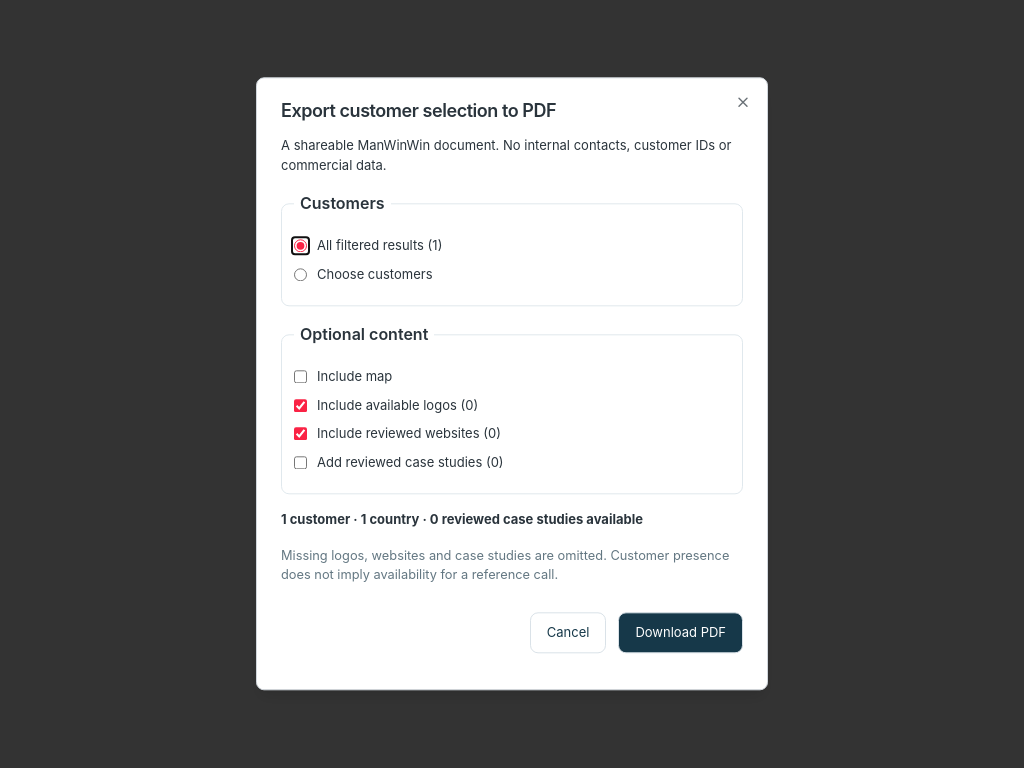
Test: Customer PDF download loading › offers an explicit reload for a module load failure
The image size is (1024, 768).
Click the button "Download PDF".
click(681, 633)  # box top-left (618, 612), bottom-right (743, 654)
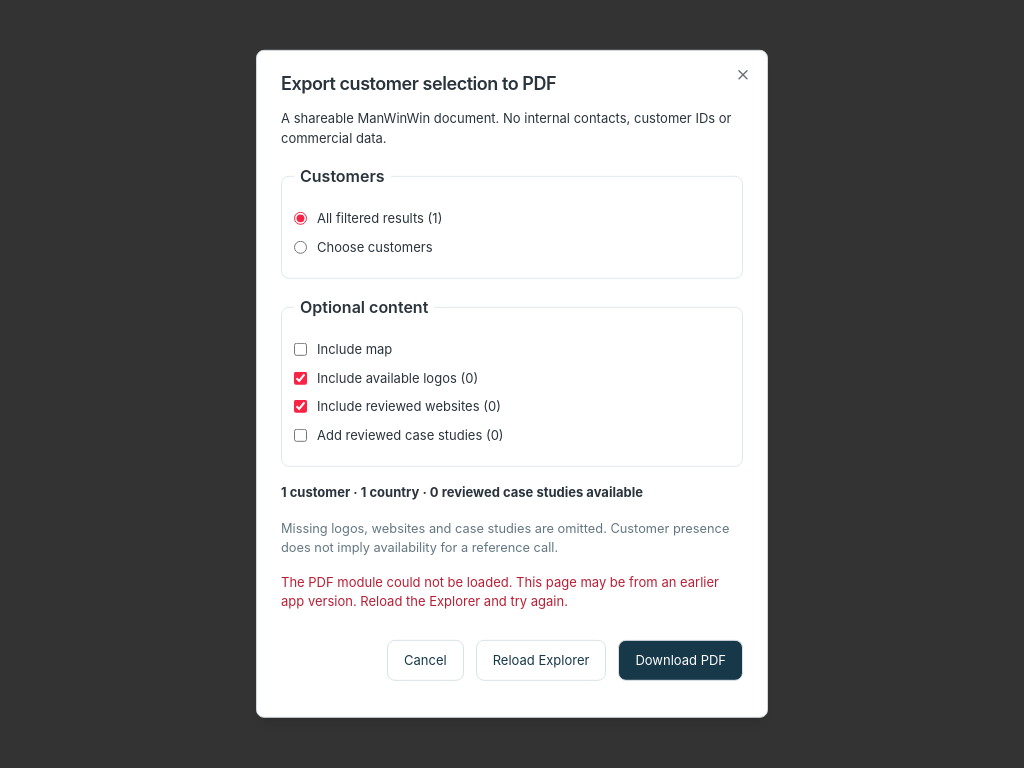
Now the 2nd message shows "Reload the Explorer", box top-left (281, 574), bottom-right (719, 609)
Now the button "Reload Explorer" is enabled, box top-left (476, 640), bottom-right (606, 681)
